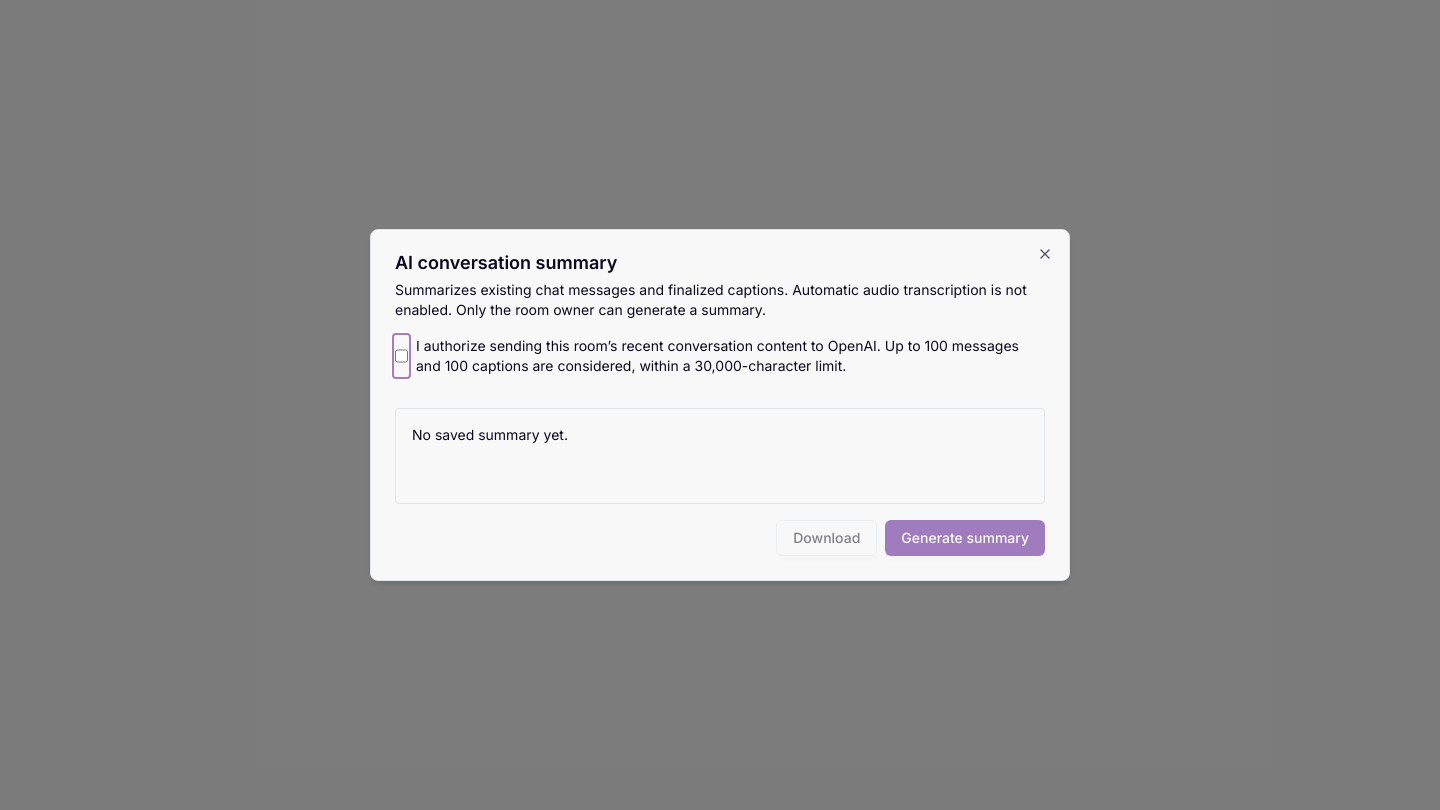
requires consent and never generates automatically
Expected: the button "Generate summary" is disabled, [885, 520, 1045, 556]
Click the checkbox at (402,356), box [395, 336, 408, 376]
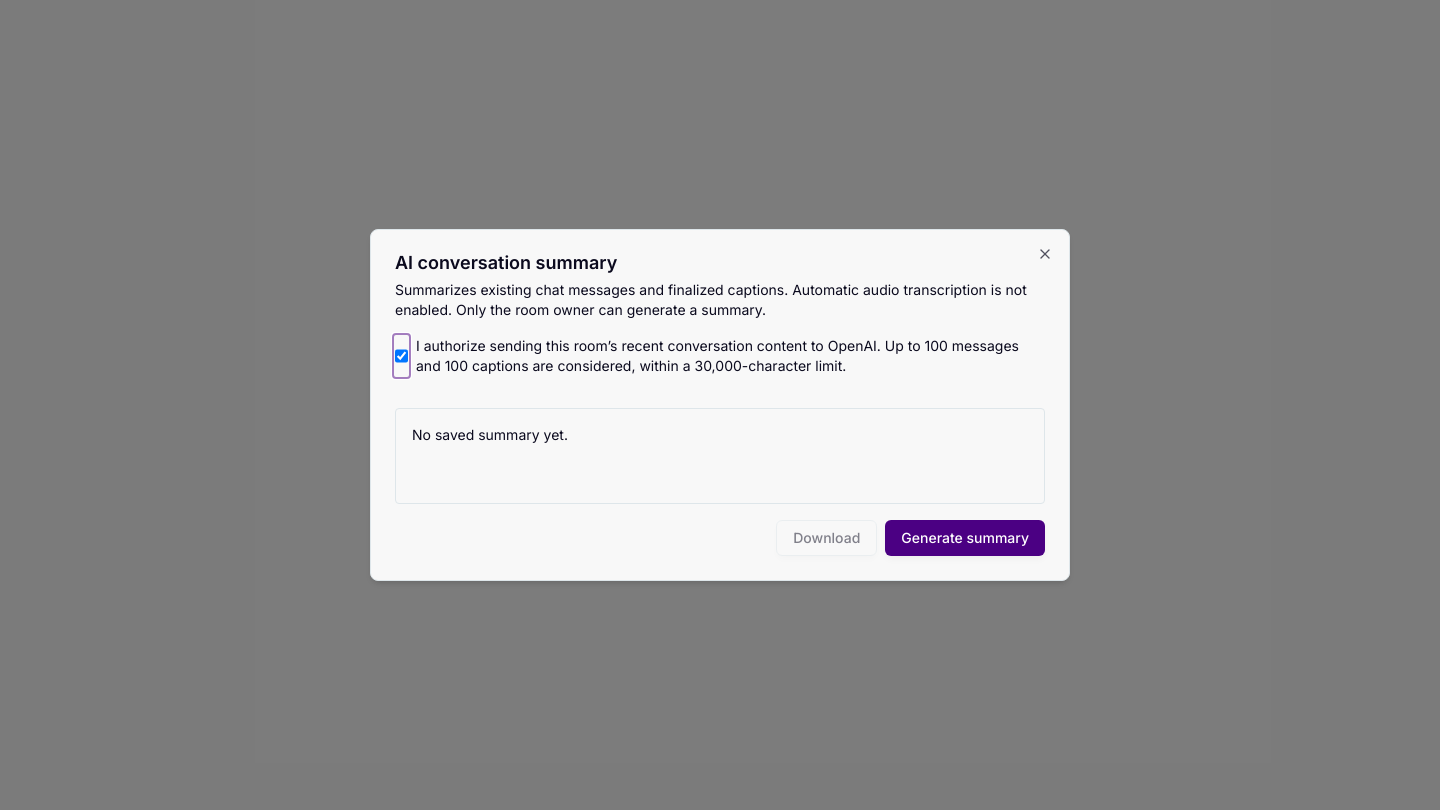
Result: the button "Generate summary" is enabled at [885, 520, 1045, 556]
